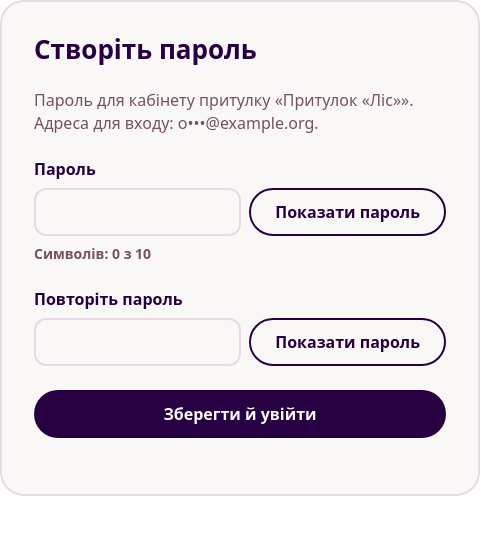
Scenario: «Створіть пароль» › the two fields differ: his mismatch sentence, and nothing is sent
The image size is (497, 544).
Type "ялинка-під-вікном" into the password field labelled "Пароль" at (138, 212), box [34,188,241,236]
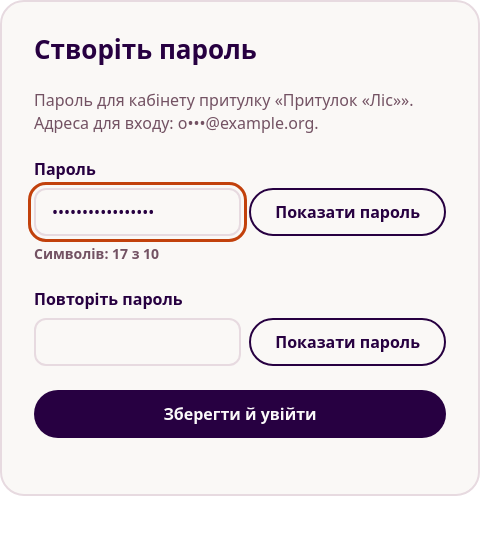
Type "ялинка-під-вікном!" into the password field labelled "Повторіть пароль" at (138, 342), box [34,318,241,366]
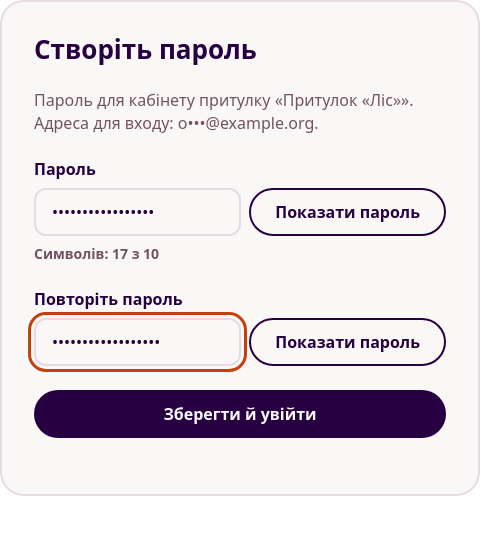
Click the button "Зберегти й увійти" at (240, 414), box [34,390,446,438]
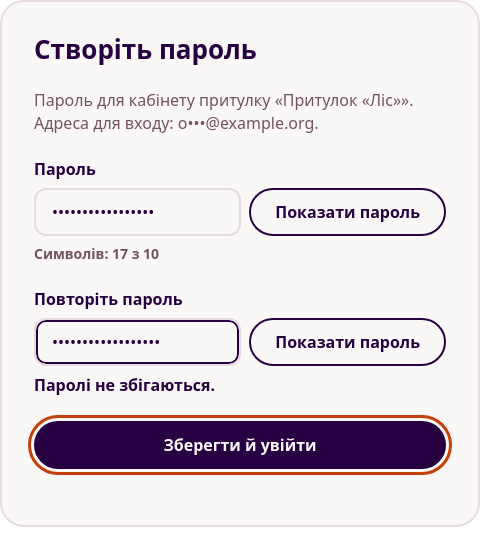
Result: the text "Паролі не збігаються." is shown at [34,374,215,396]
